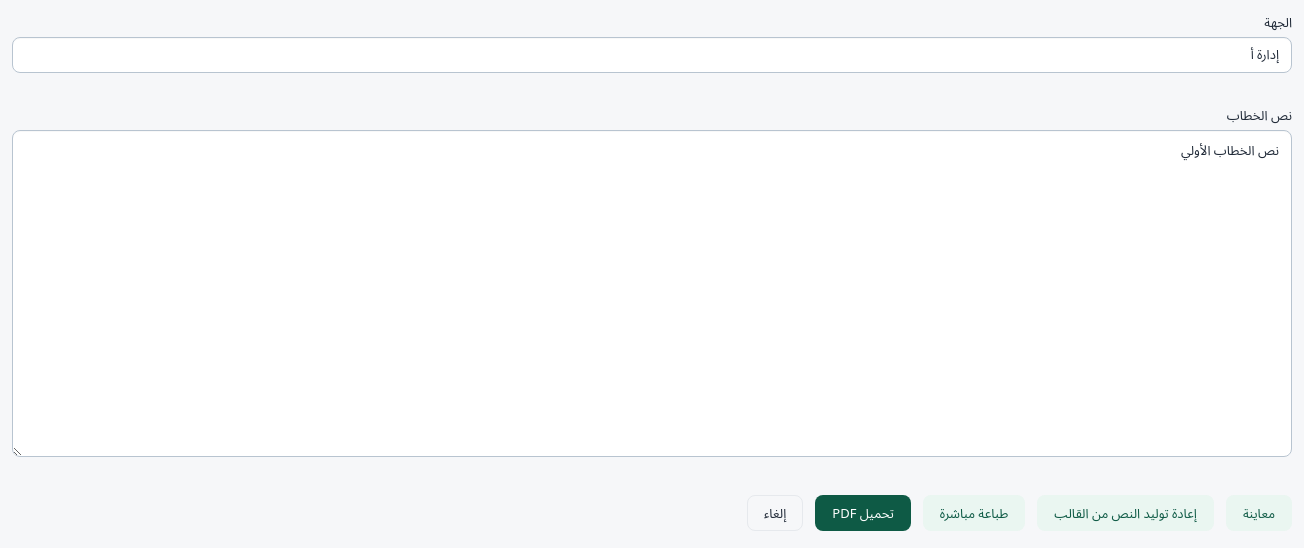
Test: FollowUpLetterFormPanel › regenerates from template via API
Click the button "إعادة توليد النص من القالب": (1126, 513) [1037,495,1214,531]
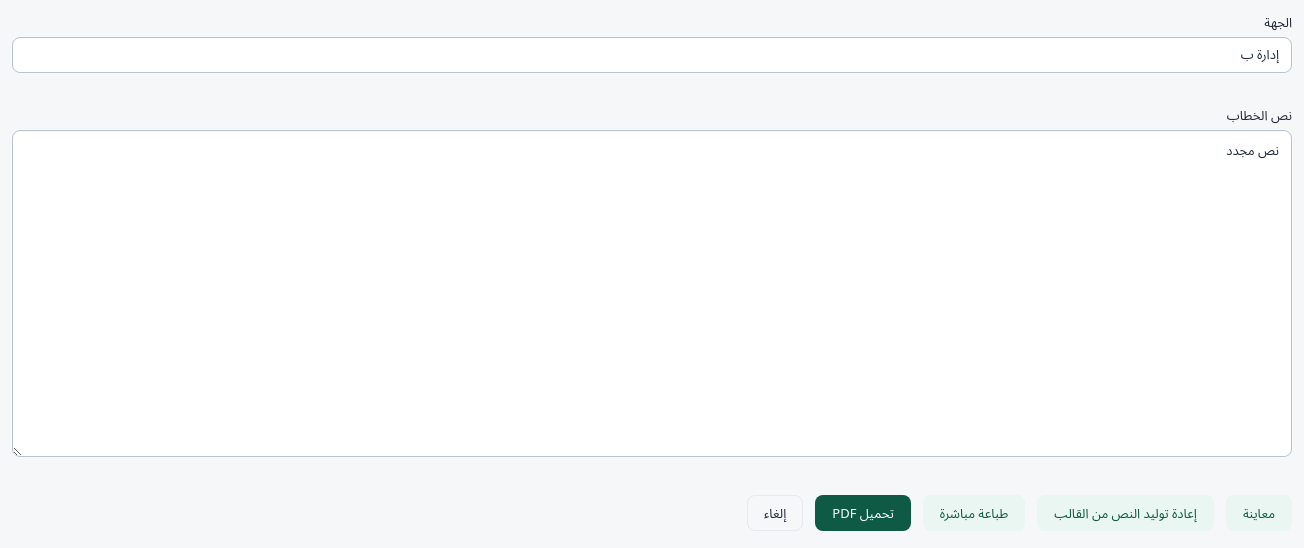
Expected: the text box showing "نص مجدد" is shown, [12,130,1292,457]
Expected: the field showing "إدارة ب" is shown, [12,37,1292,73]
